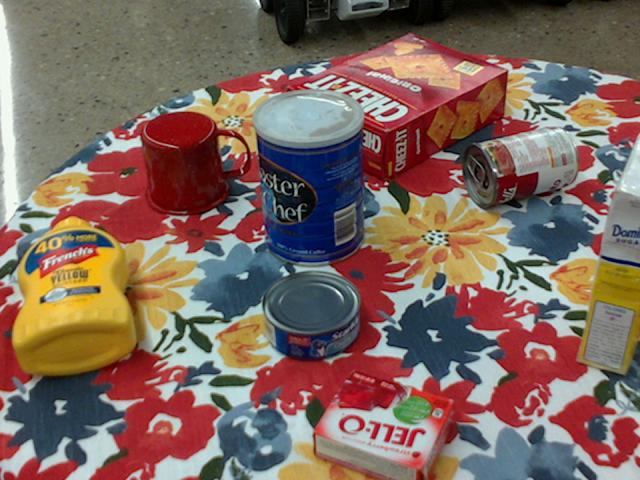cracker_box: (289, 35, 509, 181)
gelatin_box: (315, 372, 460, 479)
master_chef_can: (252, 88, 364, 266)
mug: (140, 111, 249, 216)
mustard_bottle: (14, 217, 136, 374)
sugar_box: (579, 132, 639, 375)
tomato_soup_can: (463, 124, 579, 207)
tuna_fish_can: (261, 271, 361, 361)
